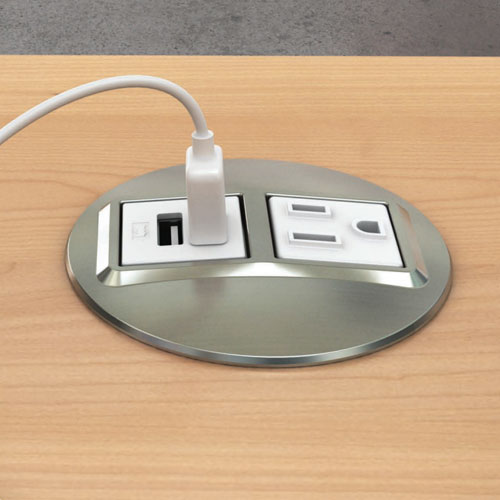outlet: (276, 198, 390, 252)
